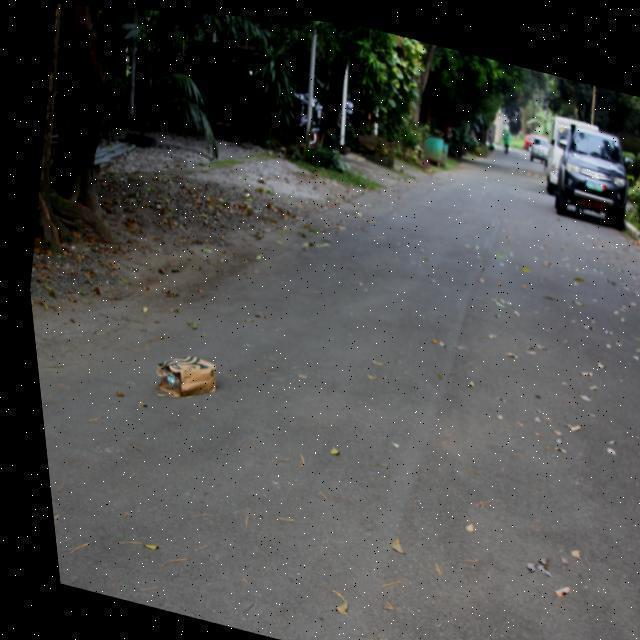Paper_Bag: (142, 345, 214, 408)
